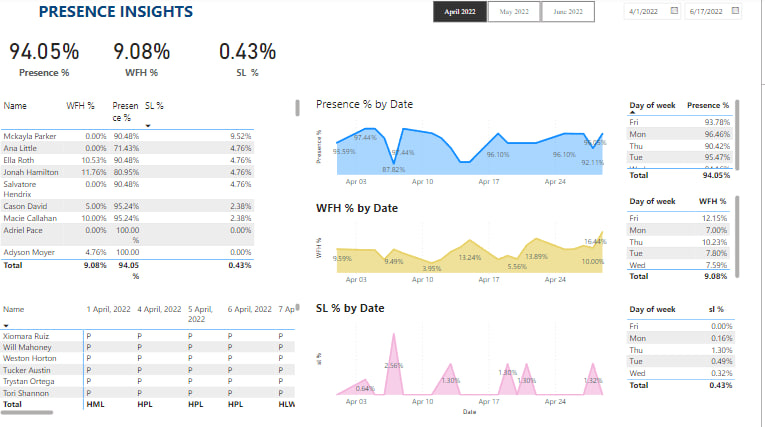

The page's visual inventory and layout, read from the dashboard file:
{"tool":"powerbi","page":{"name":"PRESENCE INSIGHTS","canvas":[1280,720],"ordinal":0},"visuals":[{"type":"card","fields":{"Values":["Measure.Presence %"]},"box":[0,48.6,157.5,97.2],"z":2},{"type":"slicer","fields":{"Values":["FINAL DATA.Month"]},"box":[705.3,0,320,48.6],"z":3},{"type":"card","fields":{"Values":["Measure.WFH %"]},"box":[157.5,48.6,169.2,97.2],"z":4},{"type":"card","fields":{"Values":["Measure.sl %"]},"box":[326.7,48.6,186,97.2],"z":5},{"type":"tableEx","fields":{"Values":["FINAL DATA.Name","Measure.WFH %","Measure.Presence %","Measure.sl %"]},"box":[0,165.9,512.7,315],"z":6},{"type":"textbox","box":[53.6,0,289.8,48.6],"z":7},{"type":"pivotTable","fields":{"Rows":["FINAL DATA.Name"],"Values":["Min(FINAL DATA.Value)"],"Columns":["FINAL DATA.Date"]},"box":[0,507.6,512.7,197.7],"z":8},{"type":"stackedAreaChart","fields":{"Y":["Measure.Presence %"],"Category":["FINAL DATA.Date"]},"box":[529.4,165.9,507.6,160.8],"z":9},{"type":"stackedAreaChart","fields":{"Y":["Measure.WFH %"],"Category":["FINAL DATA.Date"]},"box":[529.4,340.1,507.6,152.5],"z":10},{"type":"stackedAreaChart","title":"SL % by Date","fields":{"Y":["Measure.sl %"],"Category":["FINAL DATA.Date"]},"box":[529.4,507.6,507.6,197.7],"z":11},{"type":"tableEx","fields":{"Values":["FINAL DATA.Day of week","Measure.Presence %"]},"box":[1048.8,165.9,201,145.8],"z":12},{"type":"tableEx","fields":{"Values":["FINAL DATA.Day of week","Measure.WFH %"]},"box":[1048.8,326.7,201,154.1],"z":13},{"type":"tableEx","fields":{"Values":["FINAL DATA.Day of week","Measure.sl %"]},"box":[1048.8,507.6,201,197.7],"z":14},{"type":"slicer","fields":{"Values":["FINAL DATA.Date"]},"box":[1037.1,0,224.5,48.6],"z":15}]}

Visuals, with their boxes in screenshot pixels (x1, y1, x2, y2), scaled from the page's 1280x720 canvas onto the 765x427 screenshot:
card - Measure.Presence %: [left=0, top=29, right=94, bottom=86]
slicer - FINAL DATA.Month: [left=422, top=0, right=613, bottom=29]
card - Measure.WFH %: [left=94, top=29, right=195, bottom=86]
card - Measure.sl %: [left=195, top=29, right=306, bottom=86]
tableEx - FINAL DATA.Name x Measure.WFH %: [left=0, top=98, right=306, bottom=285]
textbox: [left=32, top=0, right=205, bottom=29]
pivotTable - FINAL DATA.Name x Min(FINAL DATA.Value): [left=0, top=301, right=306, bottom=418]
stackedAreaChart - Measure.Presence % x FINAL DATA.Date: [left=316, top=98, right=620, bottom=194]
stackedAreaChart - Measure.WFH % x FINAL DATA.Date: [left=316, top=202, right=620, bottom=292]
"SL % by Date" stackedAreaChart: [left=316, top=301, right=620, bottom=418]
tableEx - FINAL DATA.Day of week x Measure.Presence %: [left=627, top=98, right=747, bottom=185]
tableEx - FINAL DATA.Day of week x Measure.WFH %: [left=627, top=194, right=747, bottom=285]
tableEx - FINAL DATA.Day of week x Measure.sl %: [left=627, top=301, right=747, bottom=418]
slicer - FINAL DATA.Date: [left=620, top=0, right=754, bottom=29]
